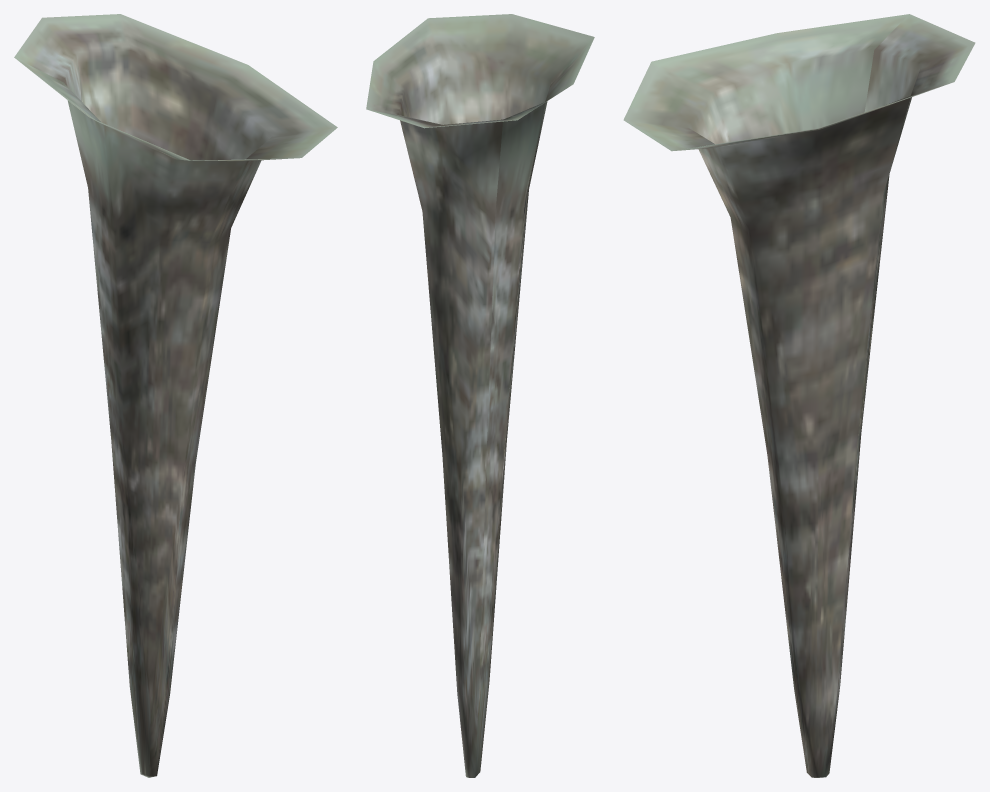
File: TROLLHOLE02_PS-MAINSTALAG22.fbx
3 renders of one model, left to right at view 1: azimuth 30°, elevation 25°; view 2: azimuth 150°, elevation 25°; view 3: azimuth 270°, elevation 25°, orthographic.
Parts seen in each view (by area): view 1: TROLLHOLE02_PS-MAINSTALAG22; view 2: TROLLHOLE02_PS-MAINSTALAG22; view 3: TROLLHOLE02_PS-MAINSTALAG22.
Part boxes in pixels (x1,y1,x2,y2): TROLLHOLE02_PS-MAINSTALAG22: (14, 14, 337, 777); TROLLHOLE02_PS-MAINSTALAG22: (366, 14, 594, 777); TROLLHOLE02_PS-MAINSTALAG22: (623, 14, 975, 777).
Size of the model in its own units: 16371 by 53816 by 23837.
1 material, 1 textured.
